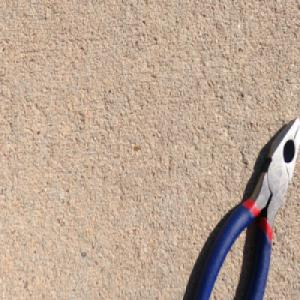Pliers: (191, 115, 300, 300)
